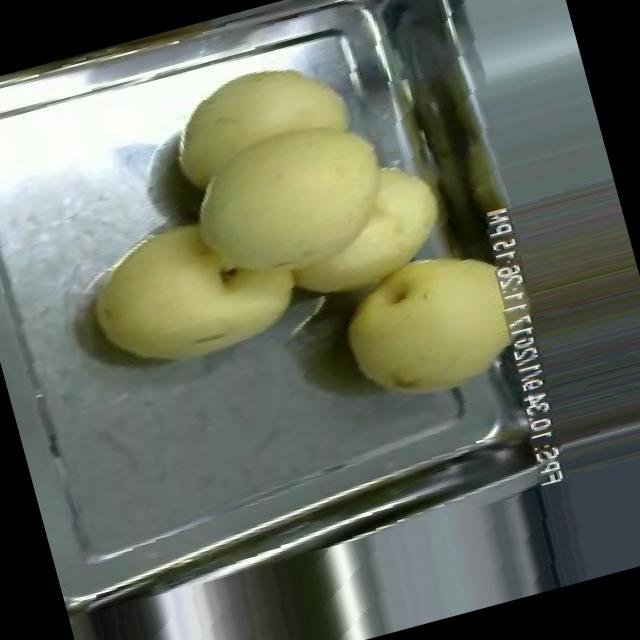Fruit: (148, 23, 448, 353), (69, 188, 325, 394), (320, 230, 526, 423)
